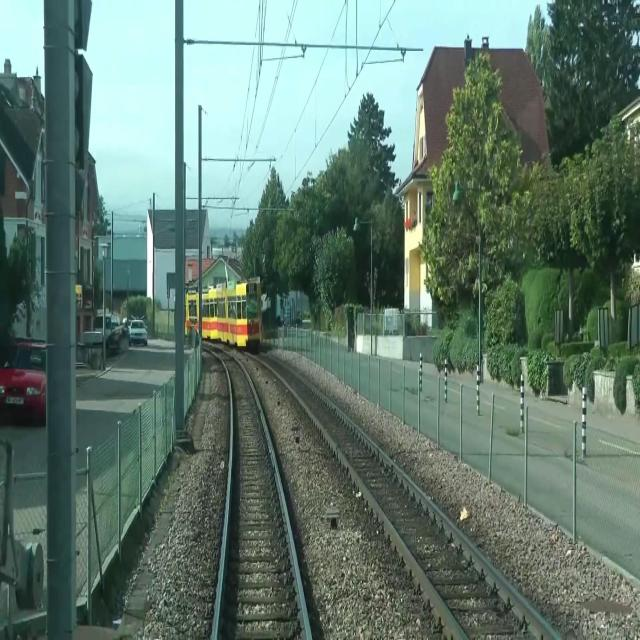rail-track: (261, 354, 558, 639), (210, 347, 307, 639)
